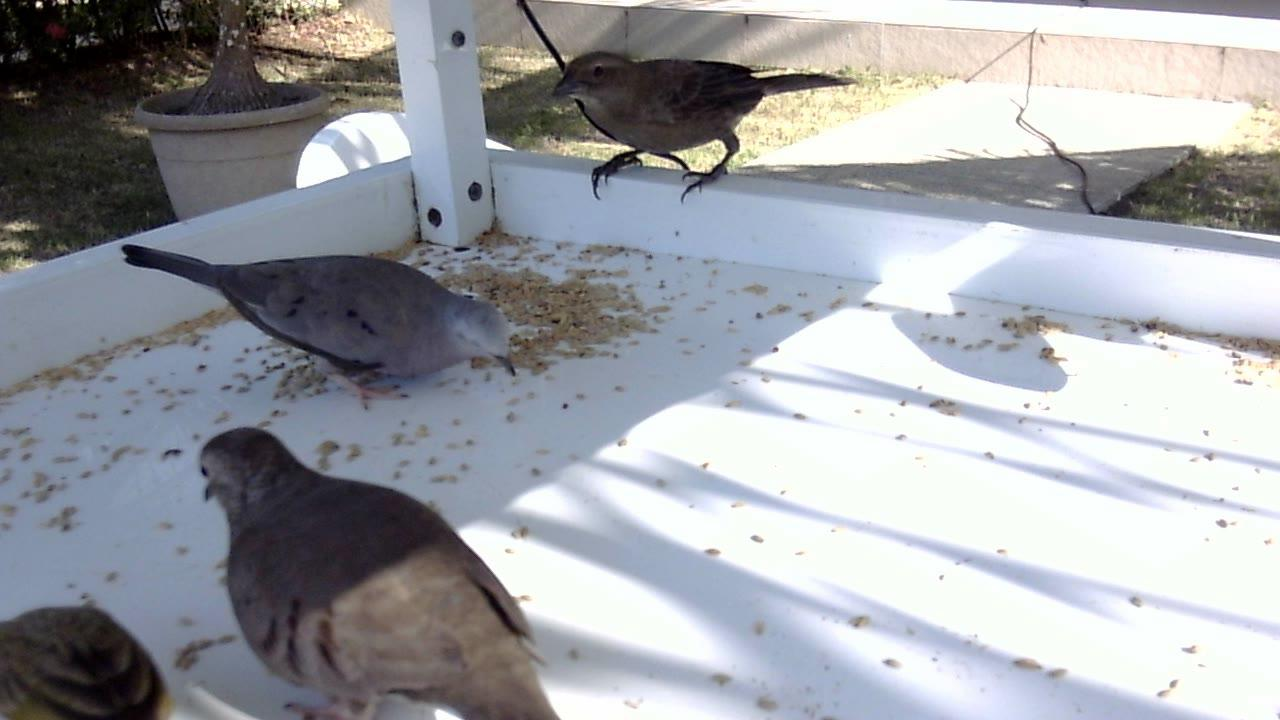canario_do_amazonas: (1, 600, 182, 720)
chupim: (552, 50, 862, 209)
rolinha: (196, 425, 562, 720), (122, 241, 519, 413)
